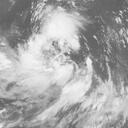cyclone: (38, 6, 81, 47)
